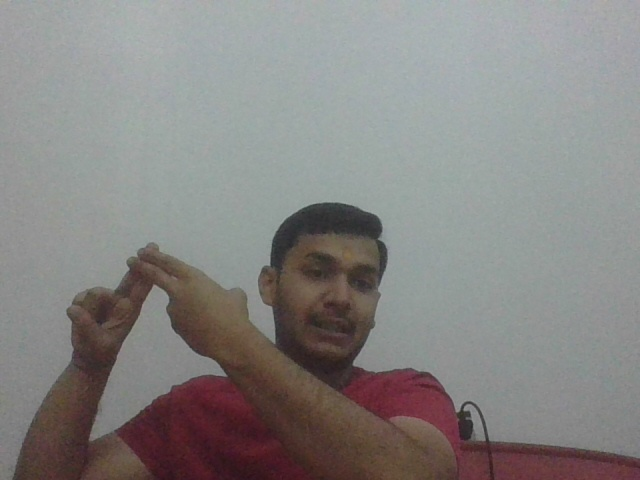F: (64, 241, 247, 358)
